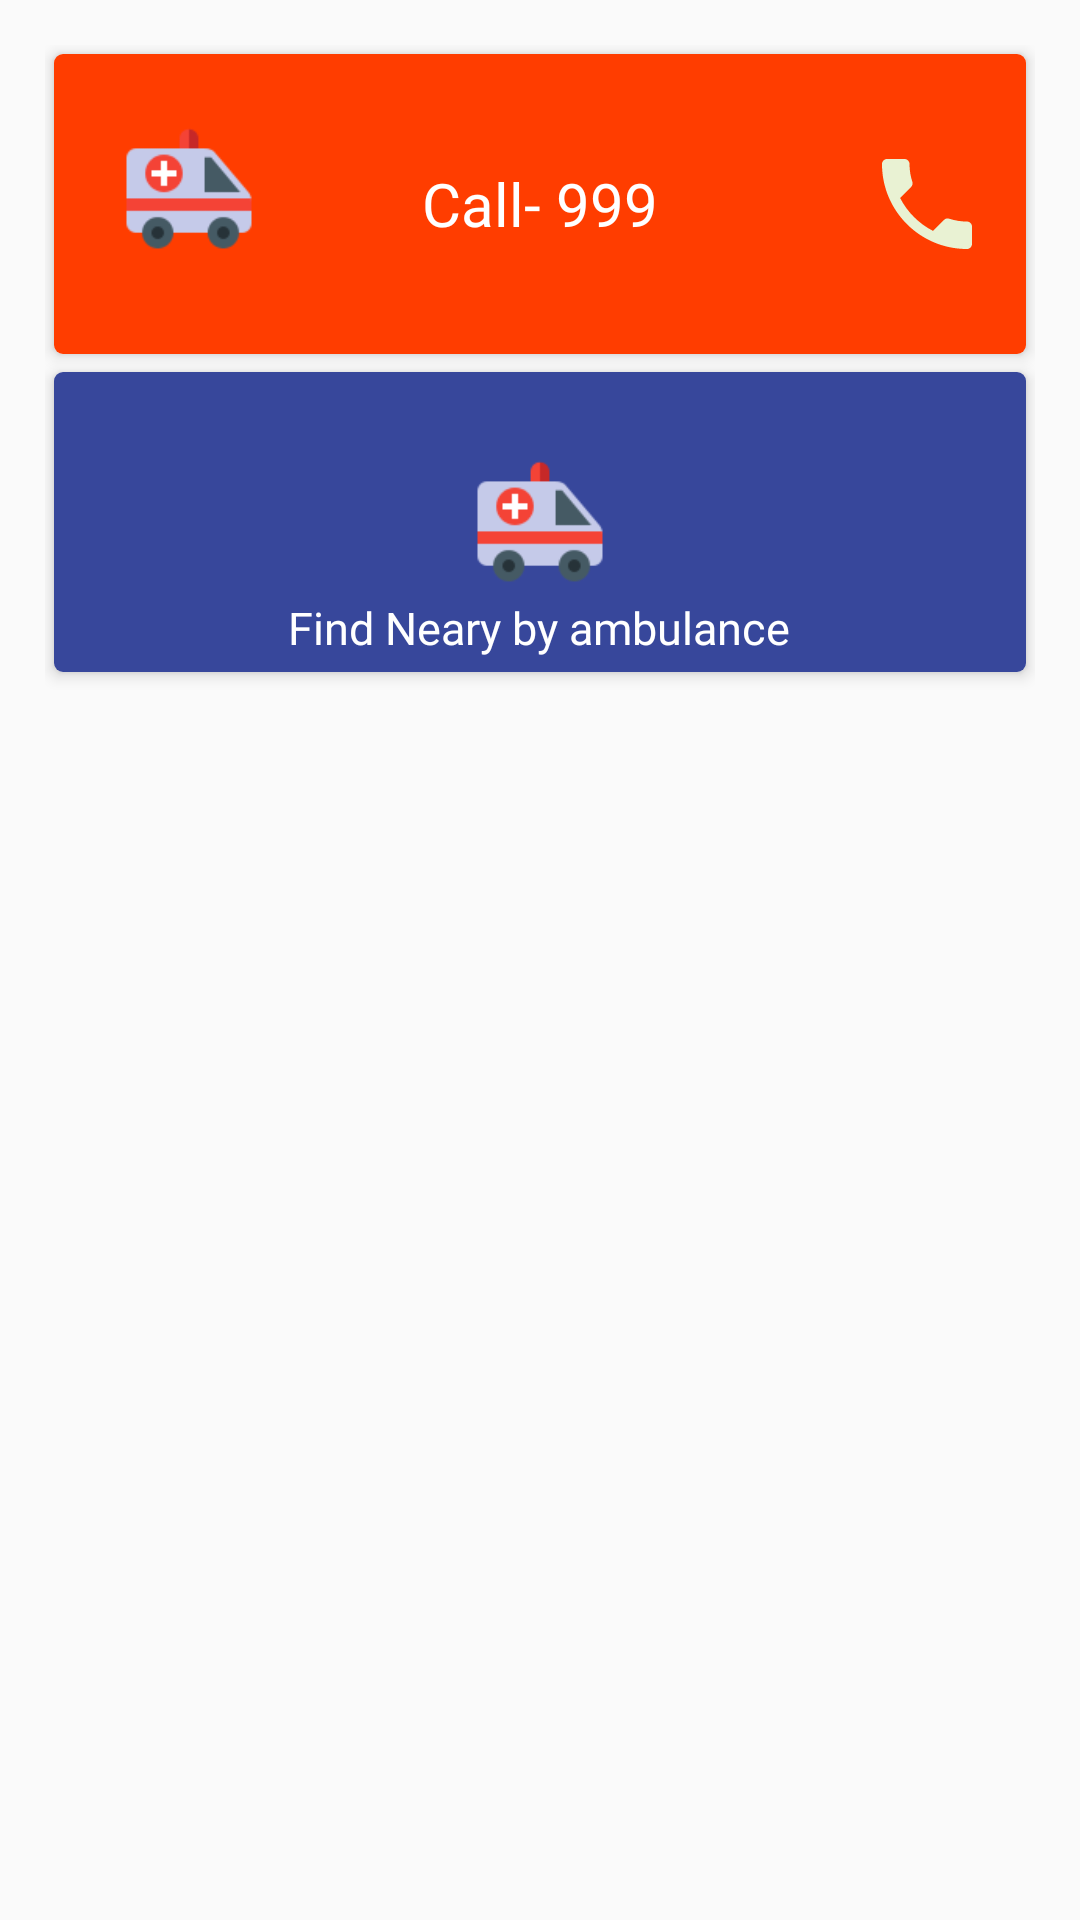

Icon bounding boxes for this 1080×1920 phone screenshot, format region(x1, y1, x2, y2):
phone: region(882, 159, 972, 249)
